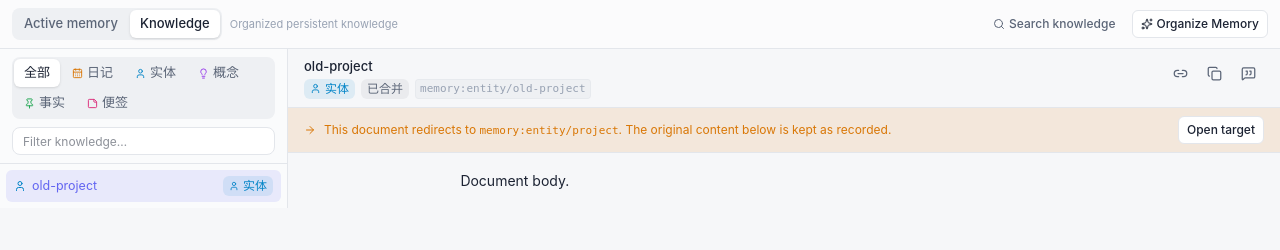
Test: MemoryPage documents › lists direct refs and runs backlinks only on an explicit request
This screenshot has width=1280, height=250.
Click the button named "References and backlinks".
click(1180, 73)  # box [1164, 57, 1196, 89]
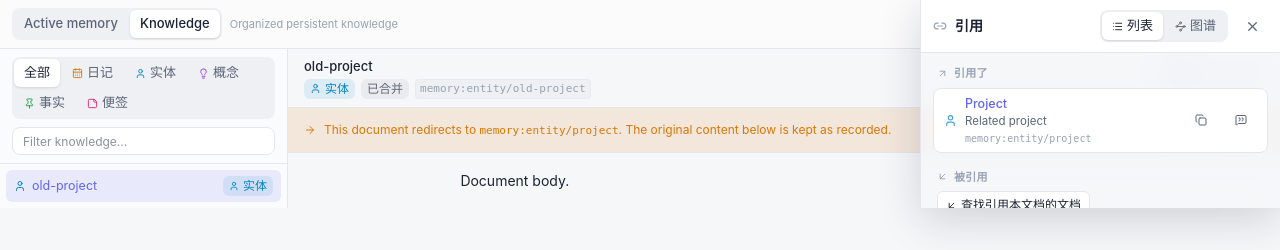
Expected: the text "project" is shown, [32, 178, 97, 193]
Now the text "引用了" is shown, box [937, 66, 988, 80]
Now the text "Related project" is shown, box [965, 114, 1047, 128]
Click the button "查找引用本文档的文档".
click(1014, 205)  # box [937, 191, 1090, 219]
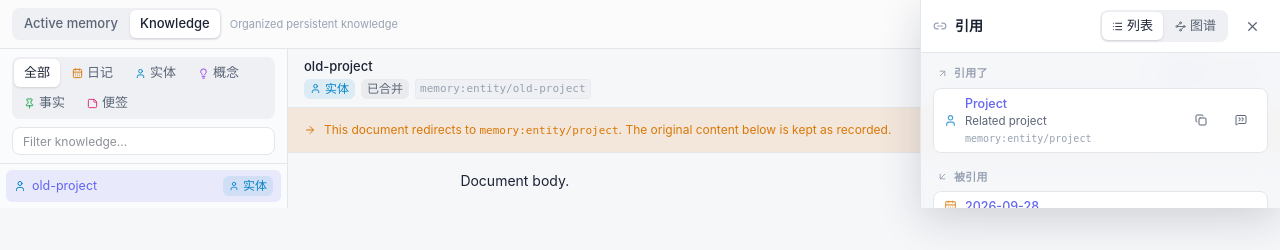
Now the text "2026-09-28" is shown, box [965, 199, 1039, 208]
